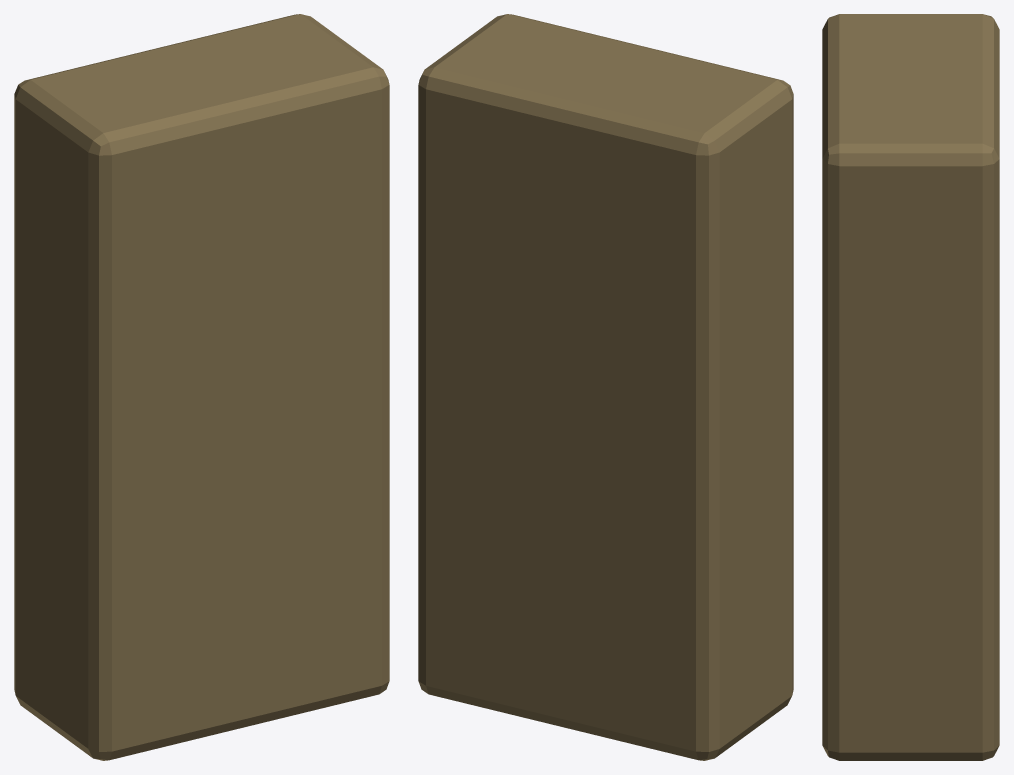
Rendered from SM_Platform_1m_Half_01_D.fbx.
3 views of the same model, side by side, from view 1: azimuth 30°, elevation 25°; view 2: azimuth 150°, elevation 25°; view 3: azimuth 270°, elevation 25° (orthographic).
Visible parts, largest first — view 1: polySurface74; view 2: polySurface74; view 3: polySurface74.
Part boxes in pixels (x1=…): polySurface74: x1=14, y1=14, x2=389, y2=760; polySurface74: x1=418, y1=14, x2=793, y2=760; polySurface74: x1=822, y1=14, x2=999, y2=760.
Size of the model in its own units: 100 by 200 by 52.
